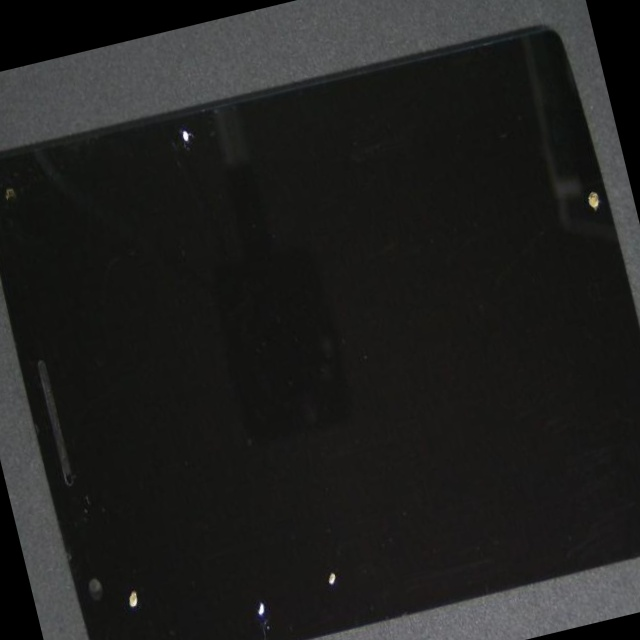stain: (140, 257, 508, 640), (83, 258, 370, 640), (29, 295, 202, 640), (34, 92, 341, 257)
